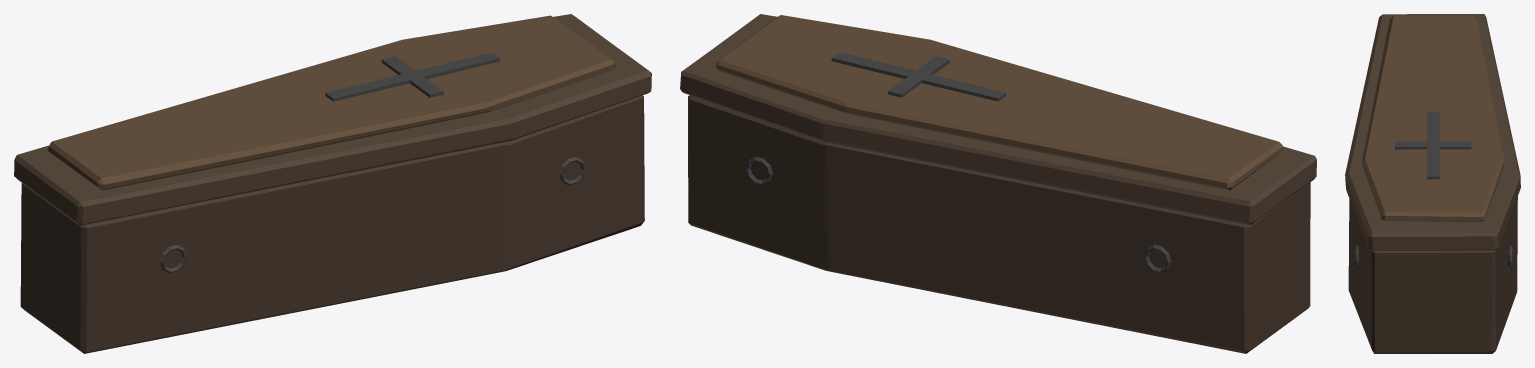
File: coffin.glb
3 views of the same model, side by side, from view 1: azimuth 30°, elevation 25°; view 2: azimuth 150°, elevation 25°; view 3: azimuth 270°, elevation 25° (orthographic). The views are drawn at different scales.
Visible parts, largest first — view 1: coffin; view 2: coffin; view 3: coffin.
Part boxes in pixels (bbox=[...]): coffin: bbox=[14, 14, 651, 353]; coffin: bbox=[680, 14, 1316, 353]; coffin: bbox=[1345, 14, 1520, 353].
Size of what is drawn, in the model's own units: 2.04 by 0.584 by 0.6869.
